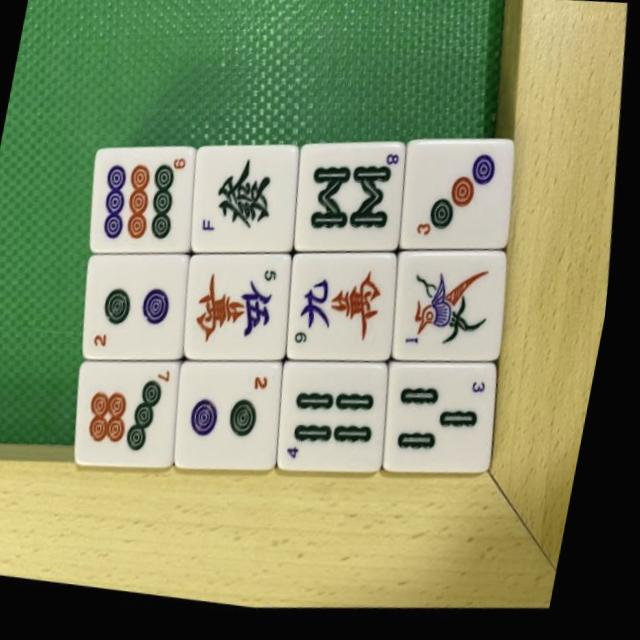hdg: (180, 136, 319, 273)
sb1: (382, 241, 527, 382)
sb3: (379, 346, 525, 492)
sb4: (270, 349, 411, 492)
sb8: (284, 133, 423, 272)
sc5: (176, 243, 313, 381)
sc9: (282, 246, 420, 383)
sd2: (169, 353, 306, 491), (75, 249, 207, 381)
sd3: (385, 128, 532, 270)
sd7: (71, 360, 201, 490)
sd9: (79, 142, 210, 268)
